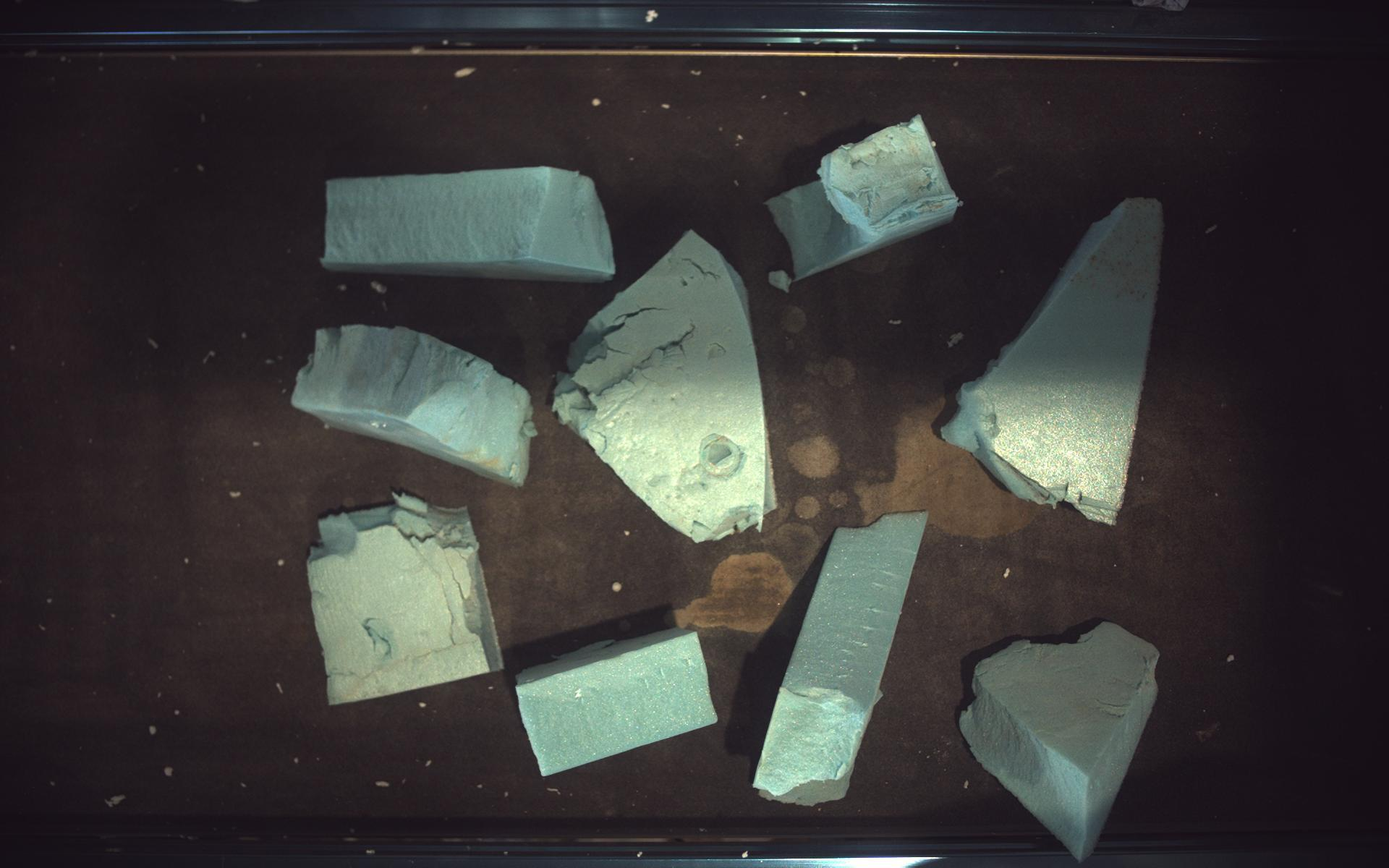foam: (944, 198, 1166, 524), (553, 229, 776, 542), (755, 514, 927, 807), (961, 624, 1161, 861), (307, 496, 501, 705), (291, 325, 536, 487), (321, 166, 616, 281), (768, 114, 961, 278), (517, 629, 718, 778)
